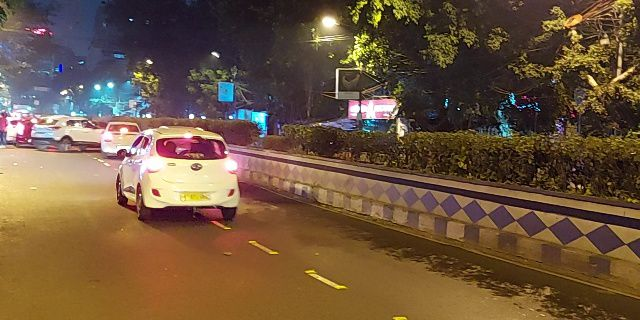Car: (111, 128, 245, 218)
